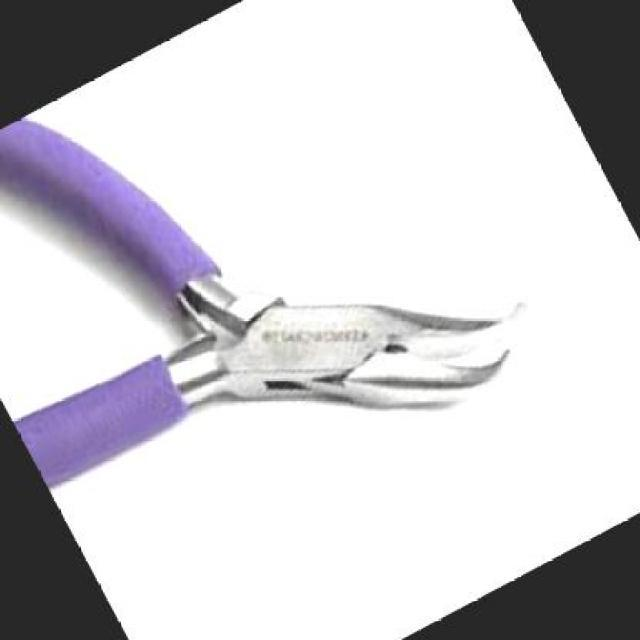pliers: (0, 0, 591, 620)
